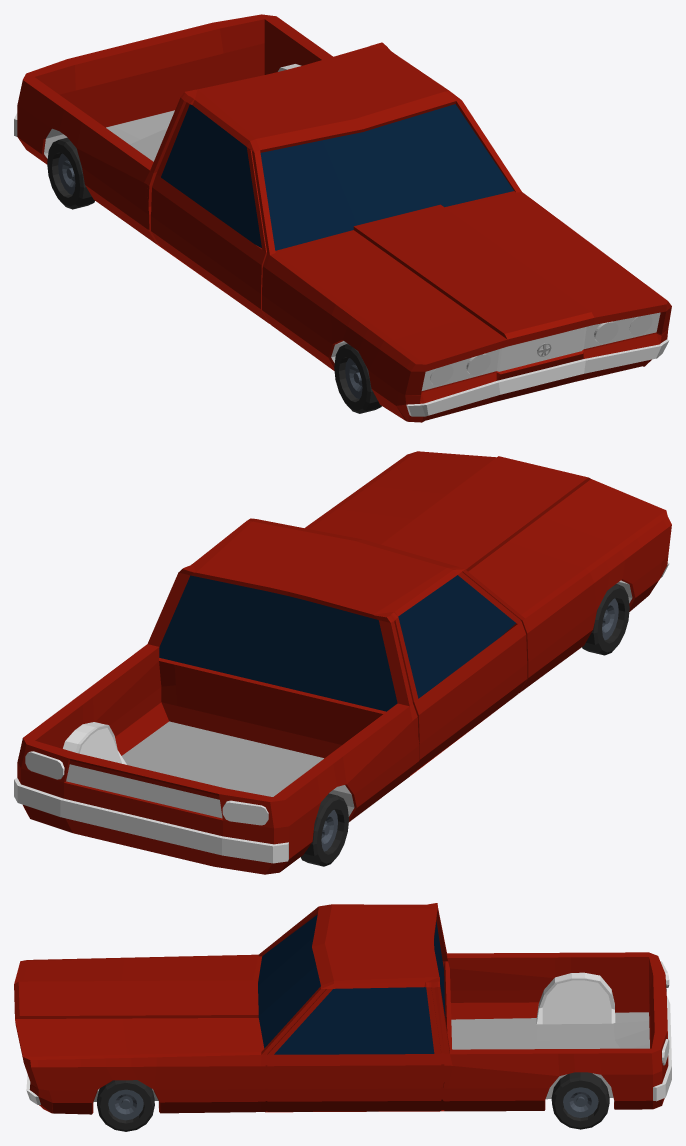
File: LowPolyPickup.fbx
The picture shows the model from 3 angles, top to bottom: view 1: azimuth 30°, elevation 25°; view 2: azimuth 150°, elevation 25°; view 3: azimuth 270°, elevation 25°; orthographic projection. The views are drawn at different scales.
Parts seen in each view (by area): view 1: Pickup, RightBackWheel, RightFrontWheel; view 2: Pickup, RightBackWheel, RightFrontWheel; view 3: Pickup, LeftBackWheel, LeftFrontWheel.
Boxes of the visible parts, bbox=[...] form: Pickup: bbox=[14, 14, 671, 422]; RightBackWheel: bbox=[47, 137, 94, 209]; RightFrontWheel: bbox=[334, 343, 381, 413]; Pickup: bbox=[14, 451, 671, 874]; RightBackWheel: bbox=[300, 793, 348, 866]; RightFrontWheel: bbox=[582, 584, 629, 655]; Pickup: bbox=[14, 903, 671, 1114]; LeftBackWheel: bbox=[551, 1072, 609, 1129]; LeftFrontWheel: bbox=[97, 1080, 154, 1131].
Size of the model in its own units: 206 by 123 by 530.
